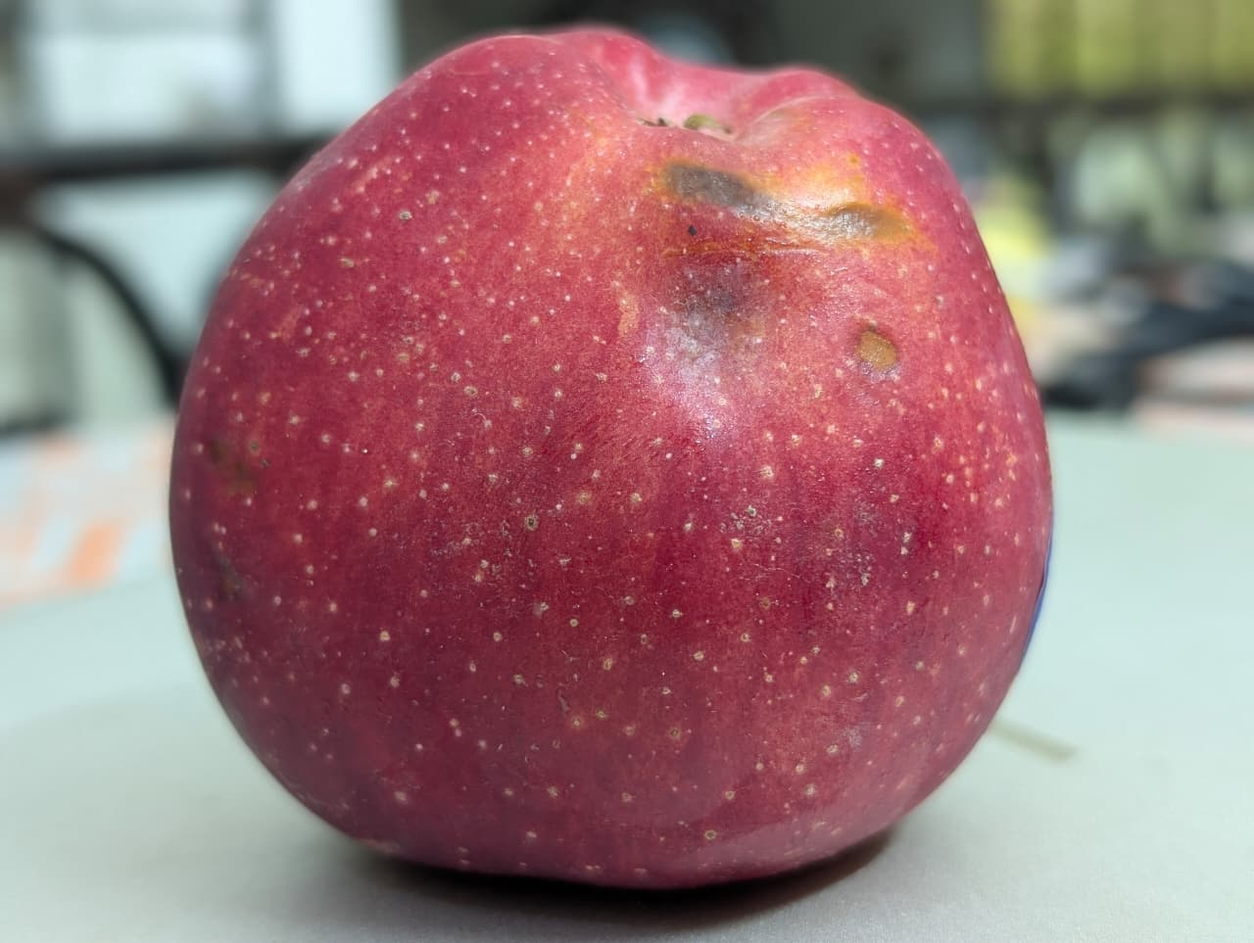apple: (0, 233, 1053, 849)
